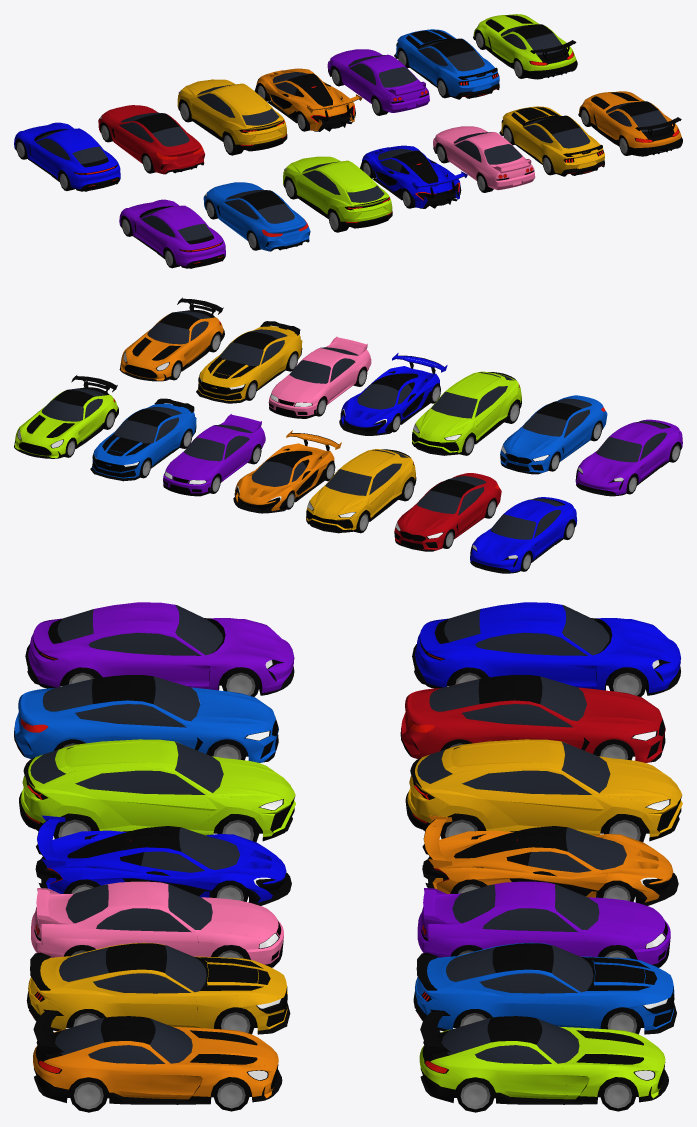
File: UltimatePack2.fbx
3 views of the same model, one above another, from view 1: azimuth 30°, elevation 25°; view 2: azimuth 150°, elevation 25°; view 3: azimuth 270°, elevation 25° (orthographic). The views are drawn at different scales.
Parts seen in each view (by area): view 1: Paint.014, Paint.001, Paint.007, Paint.008, Paint.004, Paint.011, Paint.015, Paint, Paint.005, Paint.010, Paint.003, Paint.012 (+27 smaller); view 2: Paint.014, Paint.001, Paint.007, Paint.008, Paint.011, Paint.004, Paint, Paint.015, Paint.012, Paint.003, Paint.010, Paint.005 (+30 smaller); view 3: Paint.014, Paint.001, Paint.008, Paint.007, Paint.011, Paint.004, Paint, Paint.015, Paint.010, Paint.005, Paint.006, Paint.009 (+36 smaller).
Part boxes in pixels (bbox=[...]): Paint.014: bbox=[177, 79, 286, 144]; Paint.001: bbox=[283, 156, 392, 221]; Paint.007: bbox=[119, 199, 225, 266]; Paint.008: bbox=[14, 122, 120, 189]; Paint.004: bbox=[433, 126, 535, 190]; Paint.011: bbox=[327, 49, 429, 112]; Paint.015: bbox=[98, 105, 205, 174]; Paint: bbox=[203, 182, 310, 251]; Paint.005: bbox=[501, 106, 604, 173]; Paint.010: bbox=[395, 29, 499, 96]; Paint.003: bbox=[362, 145, 467, 207]; Paint.012: bbox=[256, 68, 362, 130]; Paint.014: bbox=[306, 449, 415, 530]; Paint.001: bbox=[412, 371, 521, 452]; Paint.007: bbox=[575, 419, 682, 494]; Paint.008: bbox=[470, 497, 577, 572]; Paint.011: bbox=[163, 414, 265, 493]; Paint.004: bbox=[268, 336, 371, 415]; Paint: bbox=[500, 395, 607, 472]; Paint.015: bbox=[394, 473, 501, 550]; Paint.012: bbox=[235, 430, 341, 511]; Paint.003: bbox=[341, 353, 447, 433]; Paint.010: bbox=[92, 403, 196, 478]; Paint.005: bbox=[197, 326, 302, 400]; Paint.014: bbox=[407, 739, 682, 836]; Paint.001: bbox=[20, 739, 295, 836]; Paint.008: bbox=[415, 602, 680, 692]; Paint.007: bbox=[28, 602, 294, 692]; Paint.011: bbox=[417, 881, 670, 964]; Paint.004: bbox=[31, 881, 283, 964]; Paint: bbox=[14, 684, 278, 762]; Paint.015: bbox=[401, 682, 665, 762]; Paint.010: bbox=[415, 942, 674, 1030]; Paint.005: bbox=[28, 942, 287, 1030]; Paint.006: bbox=[33, 1026, 278, 1099]; Paint.009: bbox=[419, 1026, 665, 1099].
Bounding box in the file's own units: 1982 × 164 × 1232.
